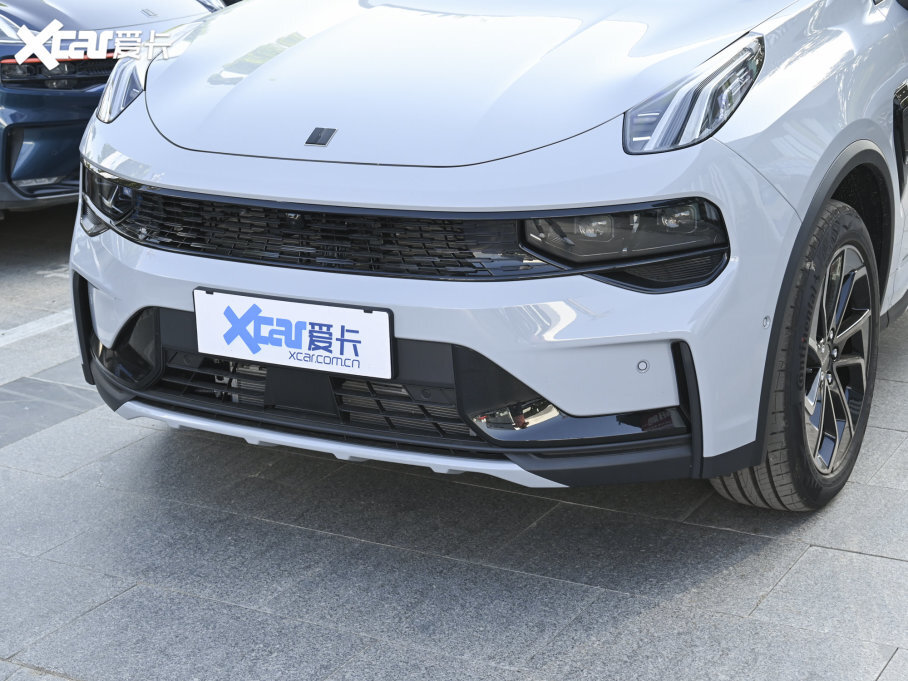LINK&CO: (306, 127, 336, 145)
